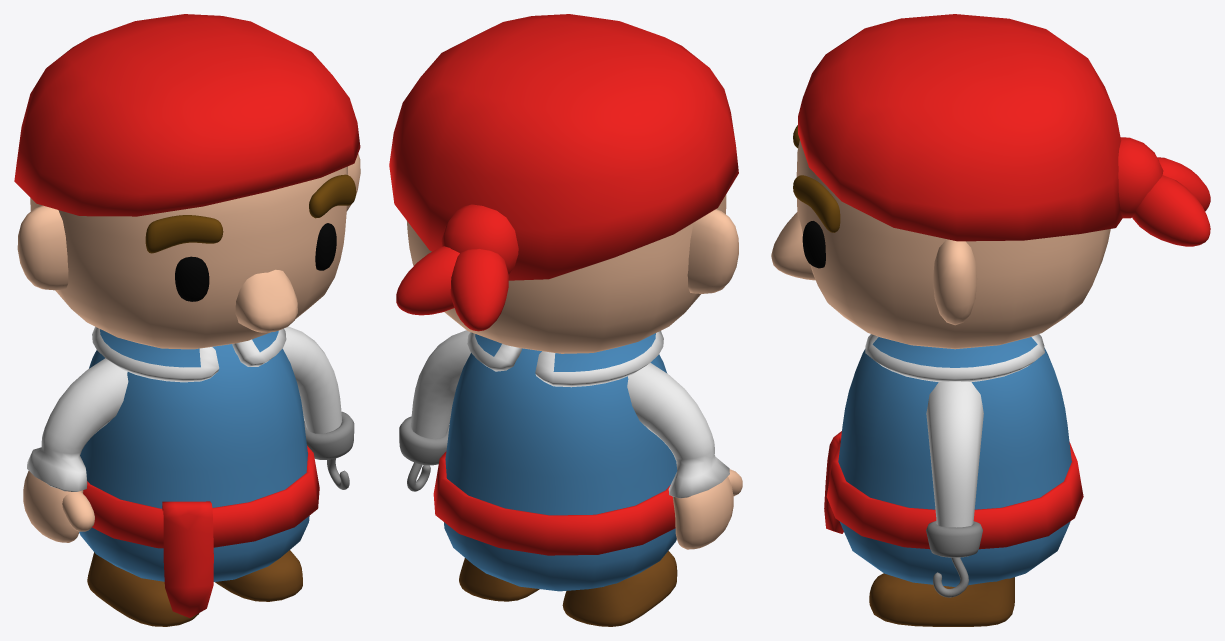
Rendered from Pirate2final.glb.
The picture shows the model from 3 angles, left to right: view 1: azimuth 30°, elevation 25°; view 2: azimuth 150°, elevation 25°; view 3: azimuth 270°, elevation 25°; orthographic projection.
Parts seen in each view (by area): view 1: Pirate2_Head, Pirate2_Body, Pirate2_Right_Arm, Pirate2_Left_Arm, Pirate2_Right_Foot, Pirate2_Left_Foot; view 2: Pirate2_Head, Pirate2_Body, Pirate2_Right_Arm, Pirate2_Left_Arm, Pirate2_Right_Foot, Pirate2_Left_Foot; view 3: Pirate2_Head, Pirate2_Body, Pirate2_Left_Arm, Pirate2_Left_Foot.
Part boxes in pixels (bbox=[...]): Pirate2_Head: bbox=[14, 14, 360, 349]; Pirate2_Body: bbox=[79, 326, 319, 617]; Pirate2_Right_Arm: bbox=[23, 358, 128, 542]; Pirate2_Left_Arm: bbox=[282, 326, 354, 489]; Pirate2_Right_Foot: bbox=[87, 552, 199, 626]; Pirate2_Left_Foot: bbox=[215, 550, 302, 601]; Pirate2_Head: bbox=[389, 14, 738, 353]; Pirate2_Body: bbox=[433, 331, 677, 591]; Pirate2_Right_Arm: bbox=[627, 362, 742, 549]; Pirate2_Left_Arm: bbox=[399, 330, 470, 491]; Pirate2_Right_Foot: bbox=[562, 551, 677, 626]; Pirate2_Left_Foot: bbox=[459, 558, 539, 601]; Pirate2_Head: bbox=[771, 14, 1210, 349]; Pirate2_Body: bbox=[824, 334, 1083, 586]; Pirate2_Left_Arm: bbox=[926, 381, 983, 597]; Pirate2_Left_Foot: bbox=[869, 573, 1014, 626].
Size of the model in its own units: 1.79 by 2.76 by 2.01.
